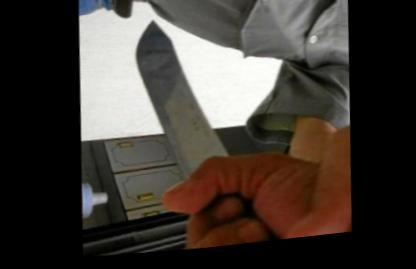knife: (120, 1, 281, 256)
